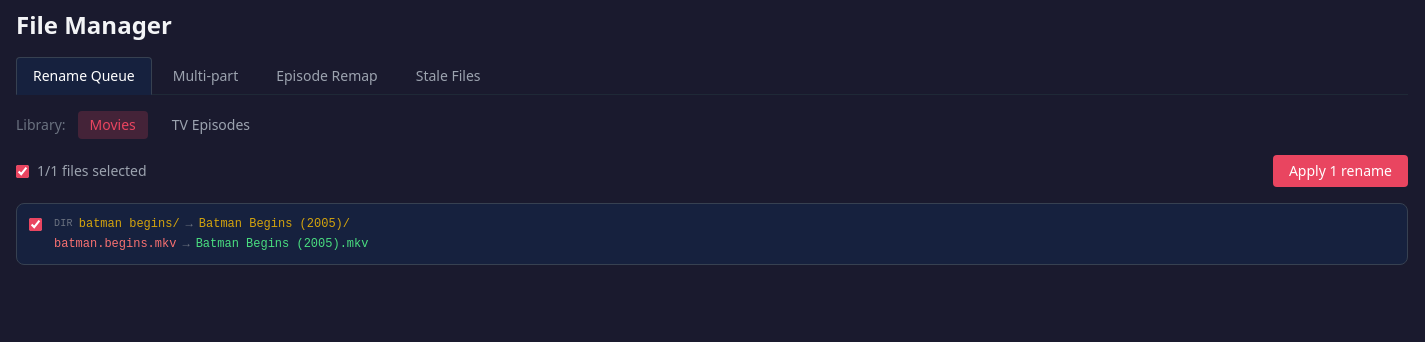
Test: FilesPage › Rename Queue tab › applies selected renames
Expected: the text "batman.begins.mkv" is shown, [54,236,176,252]
Click the button "Apply 1 rename". click: [1340, 171]
box: [1273,155,1408,187]
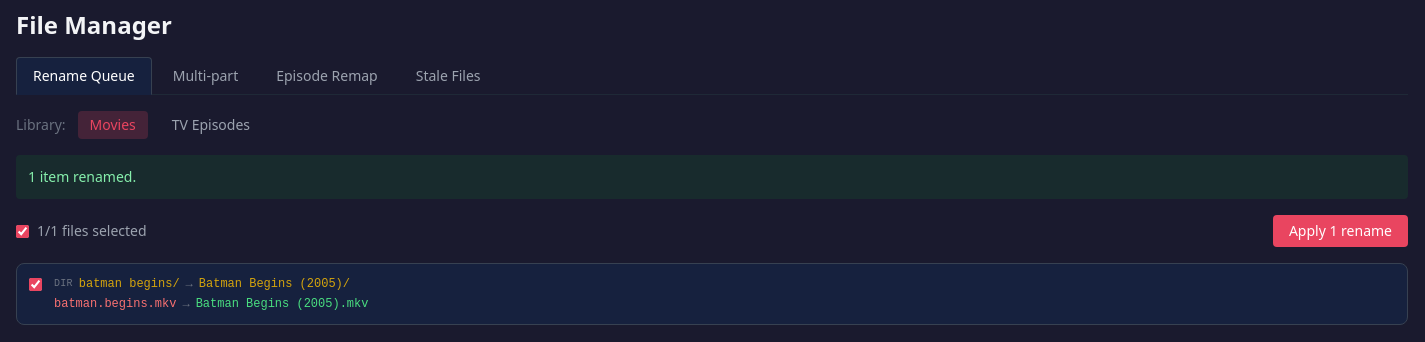
Now the text "1 item renamed." is shown, box [16,155,1408,199]
